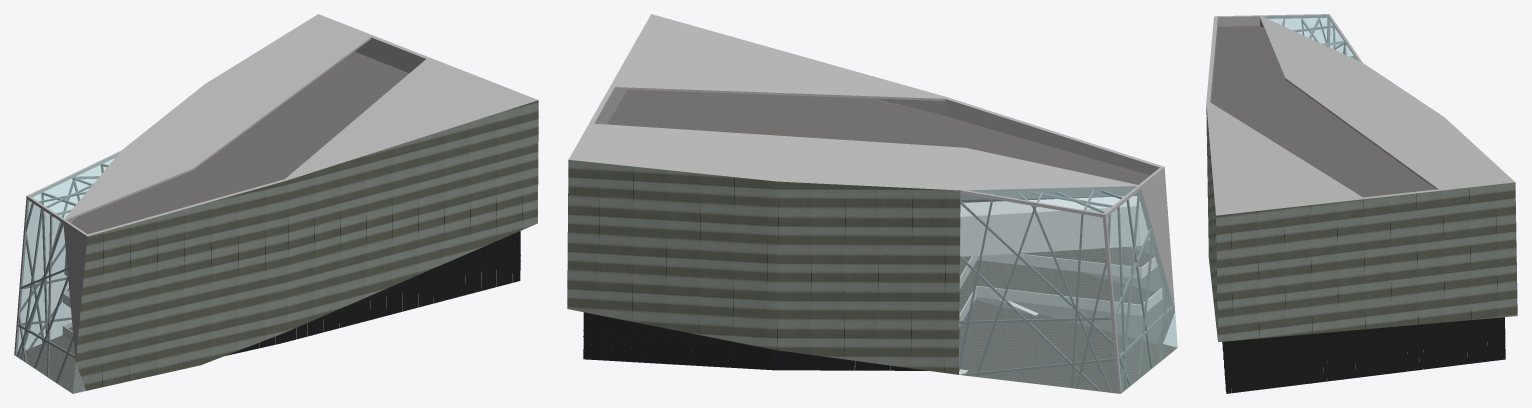
The model's file is reference-museum.glb.
The picture shows the model from 3 angles, left to right: view 1: azimuth 30°, elevation 25°; view 2: azimuth 150°, elevation 25°; view 3: azimuth 270°, elevation 25°; orthographic projection. The views are drawn at different scales.
Visible parts, largest first — view 1: empty_484, empty_481, empty_482, empty_479, empty_468, empty_470, empty_485, empty_469, empty_466, empty_464, empty_471; view 2: empty_484, empty_481, empty_479, empty_482, empty_485, empty_475, empty_468, empty_470, empty_473, empty_469, empty_464, empty_466 (+2 smaller); view 3: empty_484, empty_481, empty_482, empty_468, empty_466, empty_479, empty_464, empty_469.
Boxes of the visible parts, <box> form: empty_484: <box>75,100,538,390</box>; empty_481: <box>14,14,538,360</box>; empty_482: <box>71,51,408,234</box>; empty_479: <box>15,154,117,393</box>; empty_468: <box>225,231,520,355</box>; empty_470: <box>16,164,107,382</box>; empty_485: <box>16,327,85,393</box>; empty_469: <box>20,163,108,352</box>; empty_466: <box>231,232,520,354</box>; empty_464: <box>30,153,512,347</box>; empty_471: <box>227,262,516,355</box>; empty_484: <box>567,159,960,374</box>; empty_481: <box>568,14,1174,393</box>; empty_479: <box>959,186,1177,393</box>; empty_482: <box>607,89,1149,184</box>; empty_485: <box>959,260,1177,393</box>; empty_475: <box>960,196,1162,315</box>; empty_468: <box>583,312,928,370</box>; empty_470: <box>959,190,1173,392</box>; empty_473: <box>1010,239,1168,344</box>; empty_469: <box>959,190,1136,391</box>; empty_464: <box>585,186,1174,350</box>; empty_466: <box>583,313,915,370</box>; empty_484: <box>1206,105,1517,342</box>; empty_481: <box>1206,14,1514,215</box>; empty_482: <box>1211,26,1435,197</box>; empty_468: <box>1223,317,1505,393</box>; empty_466: <box>1223,318,1505,393</box>; empty_479: <box>1264,15,1358,60</box>; empty_464: <box>1259,15,1358,78</box>; empty_469: <box>1293,18,1355,59</box>.
Size of the model in its own units: 8.08 by 2.98 by 4.54.
Materials: 25 (12 with a texture image).
